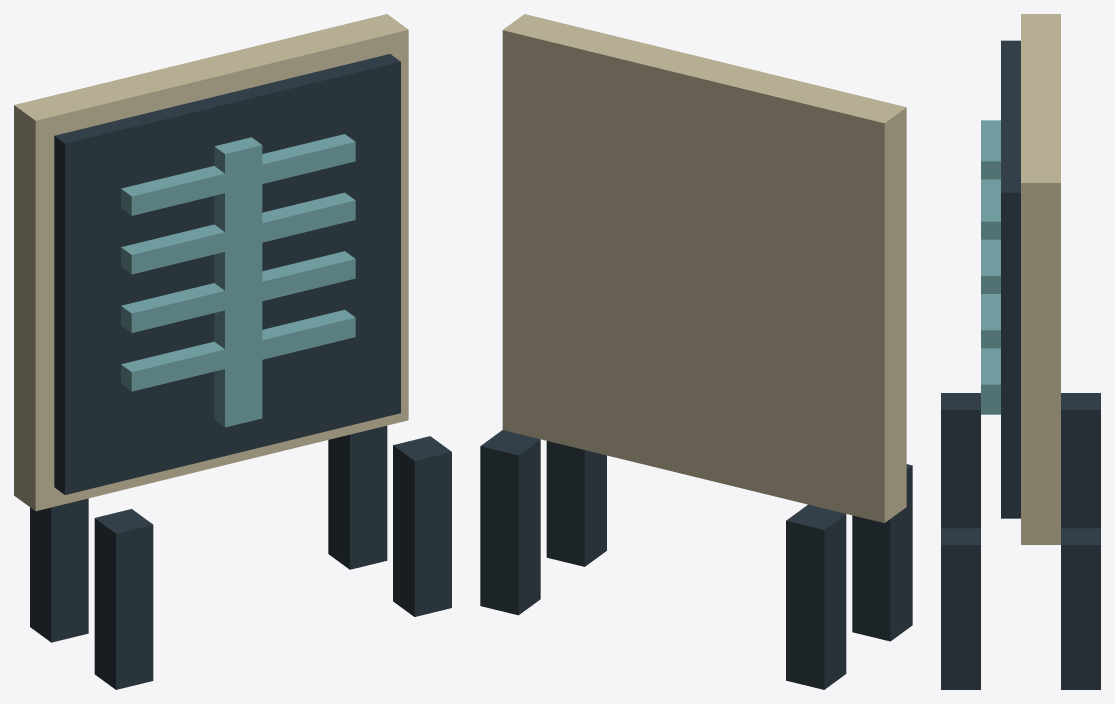
Rendered from health-07.glb.
The picture shows the model from 3 angles, left to right: view 1: azimuth 30°, elevation 25°; view 2: azimuth 150°, elevation 25°; view 3: azimuth 270°, elevation 25°; orthographic projection. The views are drawn at different scales.
Parts seen in each view (by area): view 1: X-ray viewer; view 2: X-ray viewer; view 3: X-ray viewer.
Part boxes in pixels (x1=…): X-ray viewer: x1=14, y1=14, x2=451, y2=689; X-ray viewer: x1=480, y1=14, x2=912, y2=689; X-ray viewer: x1=941, y1=14, x2=1100, y2=689.
Bounding box in the file's own units: 1.6 × 2.24 × 0.64.
